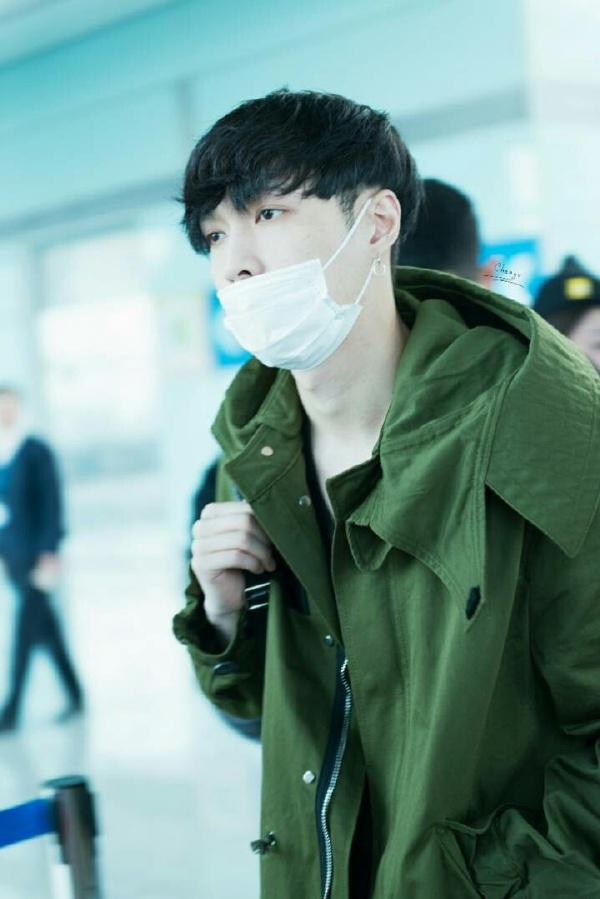WRONG: (204, 171, 353, 371)
